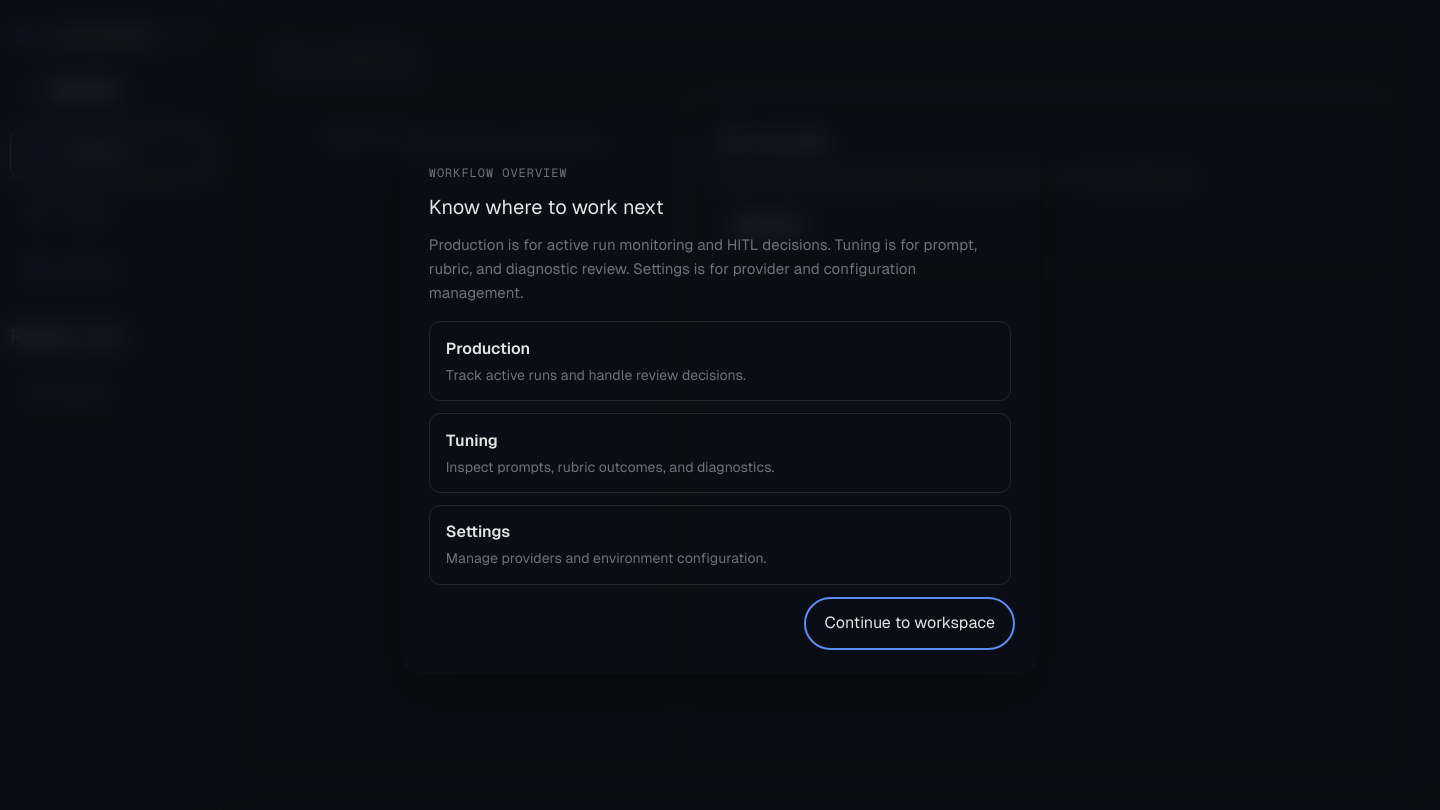
Test: App › shows the onboarding modal on first render and keeps it dismissed after rerender
Expected: the dialog is shown, [400,136,1040,674]
Click the button "Continue to workspace" at (910, 623), box [808,601,1011,646]
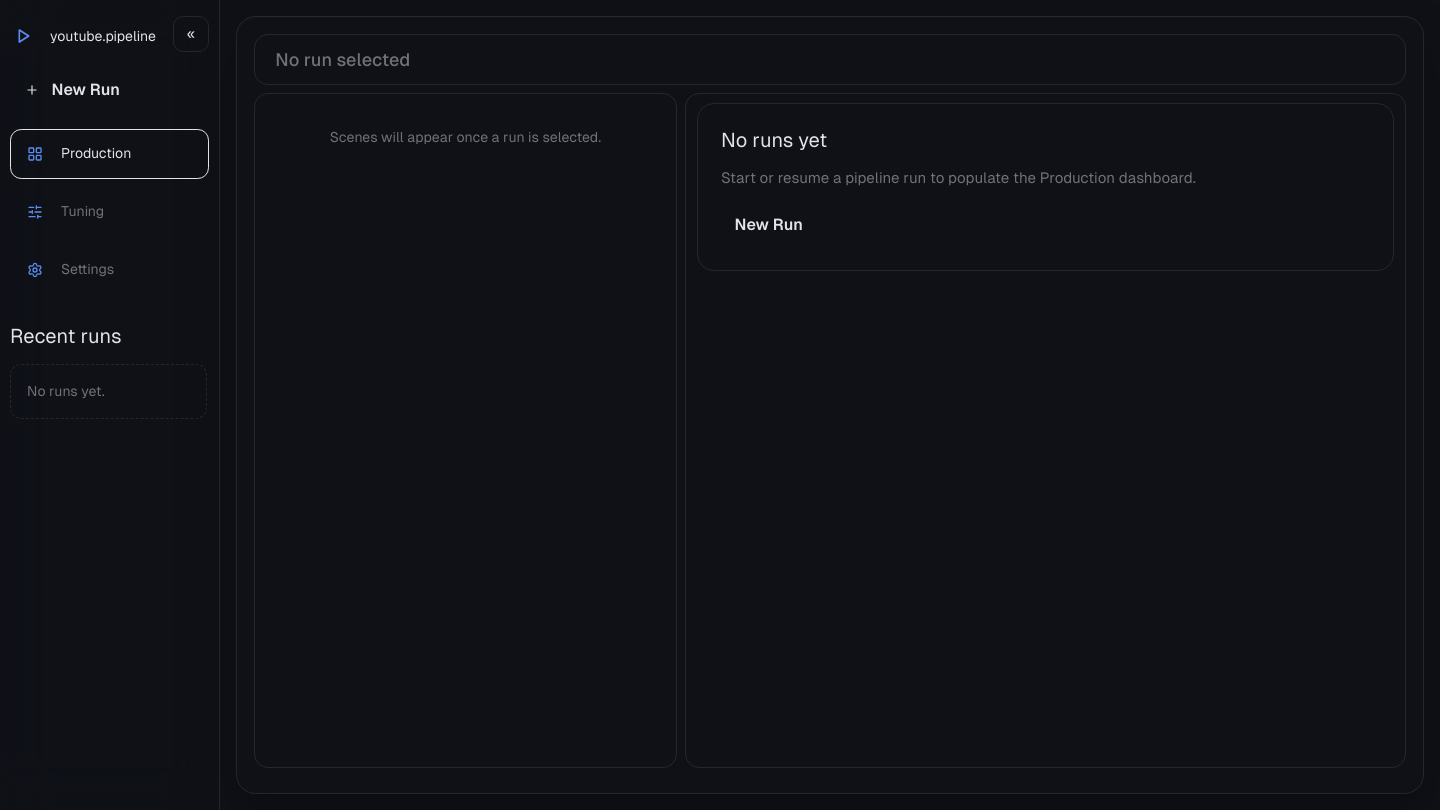
Now the dialog is gone
